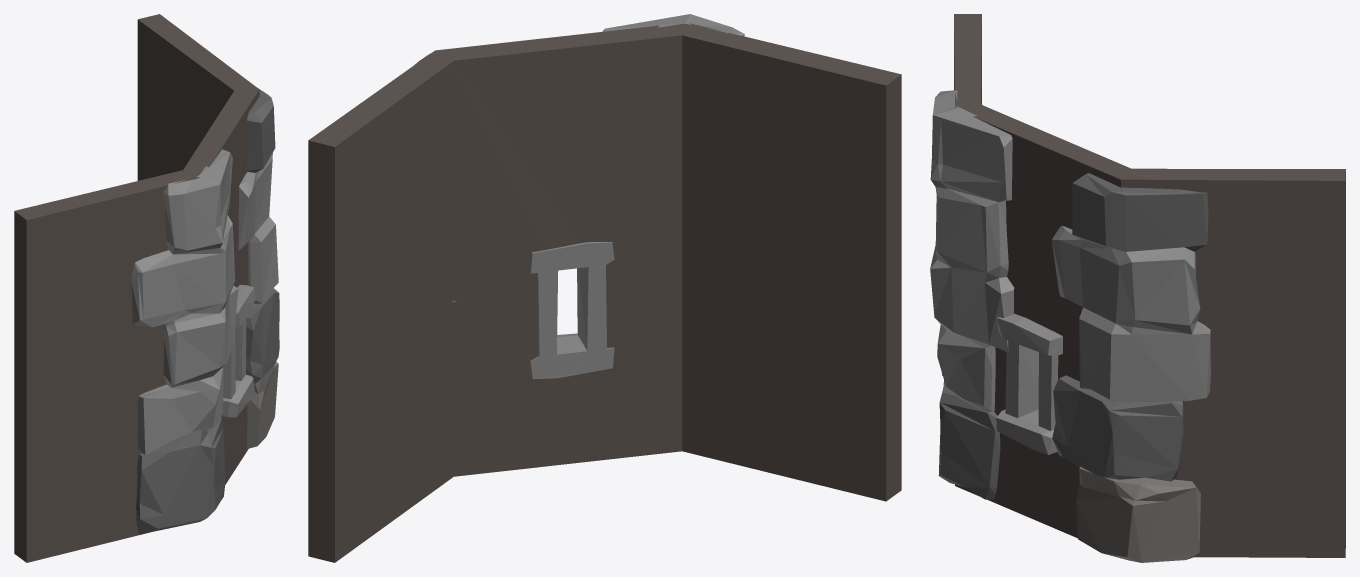
The model's file is MCastle_OctWalls_SmlWindow.FBX.
3 views of the same model, side by side, from view 1: azimuth 30°, elevation 25°; view 2: azimuth 150°, elevation 25°; view 3: azimuth 270°, elevation 25° (orthographic). The views are drawn at different scales.
Parts seen in each view (by area): view 1: MCastle_OctWalls_SmlWindow_LOD0; view 2: MCastle_OctWalls_SmlWindow_LOD0; view 3: MCastle_OctWalls_SmlWindow_LOD0.
Boxes of the visible parts, left/top/right/bottom form: MCastle_OctWalls_SmlWindow_LOD0: left=14, top=14, right=279, bottom=562; MCastle_OctWalls_SmlWindow_LOD0: left=308, top=14, right=901, bottom=562; MCastle_OctWalls_SmlWindow_LOD0: left=930, top=14, right=1345, bottom=562.
Size of what is drawn, in the model's own units: 4.54 by 4.47 by 4.46.
